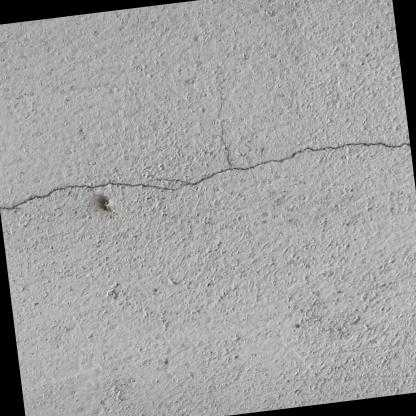crack: (153, 82, 410, 184), (0, 182, 175, 209)
